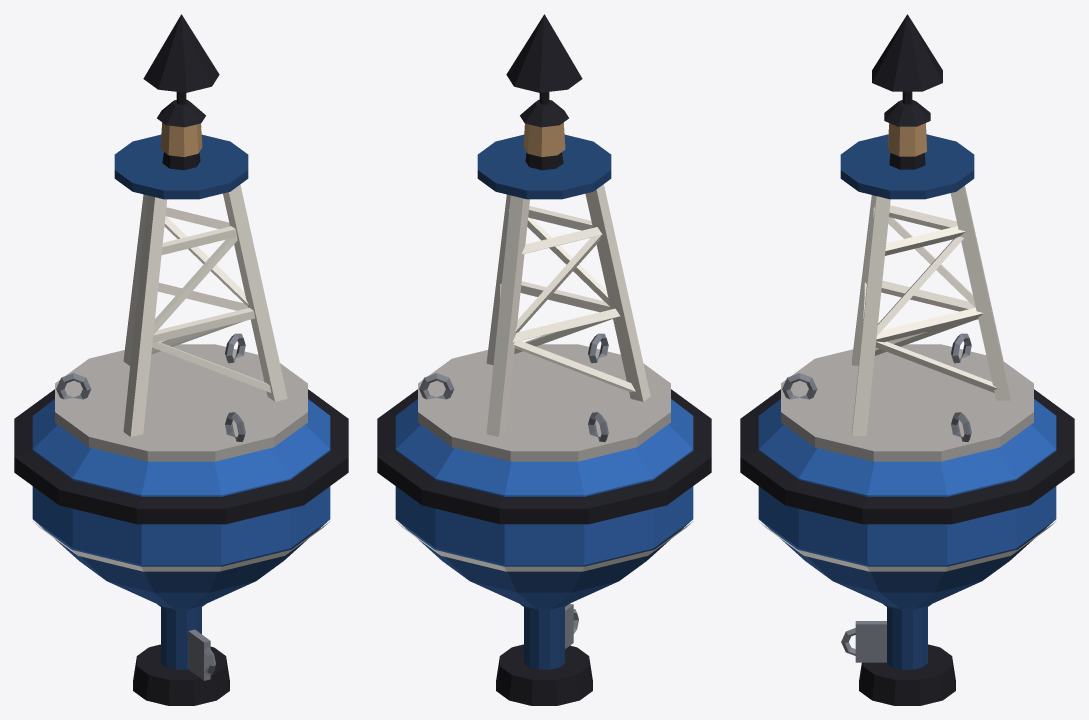
The model's file is ocean_marker.glb.
3 renders of one model, left to right at view 1: azimuth 30°, elevation 25°; view 2: azimuth 150°, elevation 25°; view 3: azimuth 270°, elevation 25°, orthographic.
Visible parts, largest first — view 1: hull-sea-blue, deck-boat-colours-light, tower-warm-white, fender-soot-black, tower-sea-blue-dark, hull-sea-blue-dark, tail-soot-black, topmark-soot-black, tail-sea-blue-dark, lamp-soot-black, deck-mid-grey, hull-warm-white (+2 smaller); view 2: hull-sea-blue, deck-boat-colours-light, tower-warm-white, fender-soot-black, tower-sea-blue-dark, hull-sea-blue-dark, tail-soot-black, topmark-soot-black, tail-sea-blue-dark, lamp-soot-black, deck-mid-grey, hull-warm-white (+1 smaller); view 3: hull-sea-blue, deck-boat-colours-light, tower-warm-white, fender-soot-black, tower-sea-blue-dark, hull-sea-blue-dark, tail-soot-black, topmark-soot-black, tail-sea-blue-dark, tail-mid-grey, lamp-soot-black, deck-mid-grey (+2 smaller).
Part boxes in pixels (<box>): hull-sea-blue: <box>32,399,330,566</box>; deck-boat-colours-light: <box>55,344,307,461</box>; tower-warm-white: <box>123,184,287,436</box>; fender-soot-black: <box>14,389,348,524</box>; tower-sea-blue-dark: <box>114,134,248,199</box>; hull-sea-blue-dark: <box>39,525,323,610</box>; tail-soot-black: <box>133,644,229,705</box>; topmark-soot-black: <box>143,14,219,104</box>; tail-sea-blue-dark: <box>161,607,201,669</box>; lamp-soot-black: <box>157,99,205,170</box>; deck-mid-grey: <box>56,333,245,441</box>; hull-warm-white: <box>32,521,330,571</box>; hull-sea-blue: <box>395,399,693,566</box>; deck-boat-colours-light: <box>418,344,670,461</box>; tower-warm-white: <box>486,184,650,436</box>; fender-soot-black: <box>377,389,711,524</box>; tower-sea-blue-dark: <box>477,134,611,199</box>; hull-sea-blue-dark: <box>402,525,686,610</box>; tail-soot-black: <box>496,644,592,705</box>; topmark-soot-black: <box>506,14,582,104</box>; tail-sea-blue-dark: <box>524,607,564,669</box>; lamp-soot-black: <box>520,99,568,170</box>; deck-mid-grey: <box>419,333,608,441</box>; hull-warm-white: <box>395,521,693,571</box>; hull-sea-blue: <box>758,399,1056,566</box>; deck-boat-colours-light: <box>781,344,1033,461</box>; tower-warm-white: <box>852,186,1010,435</box>; fender-soot-black: <box>740,389,1074,524</box>; tower-sea-blue-dark: <box>840,134,974,199</box>; hull-sea-blue-dark: <box>765,525,1049,610</box>; tail-soot-black: <box>859,644,955,705</box>; topmark-soot-black: <box>872,14,942,104</box>; tail-sea-blue-dark: <box>887,607,927,669</box>; tail-mid-grey: <box>841,621,886,662</box>; lamp-soot-black: <box>884,100,930,169</box>; deck-mid-grey: <box>782,333,971,441</box>.
Size of the model in its own units: 1.74 by 3.85 by 1.74.
